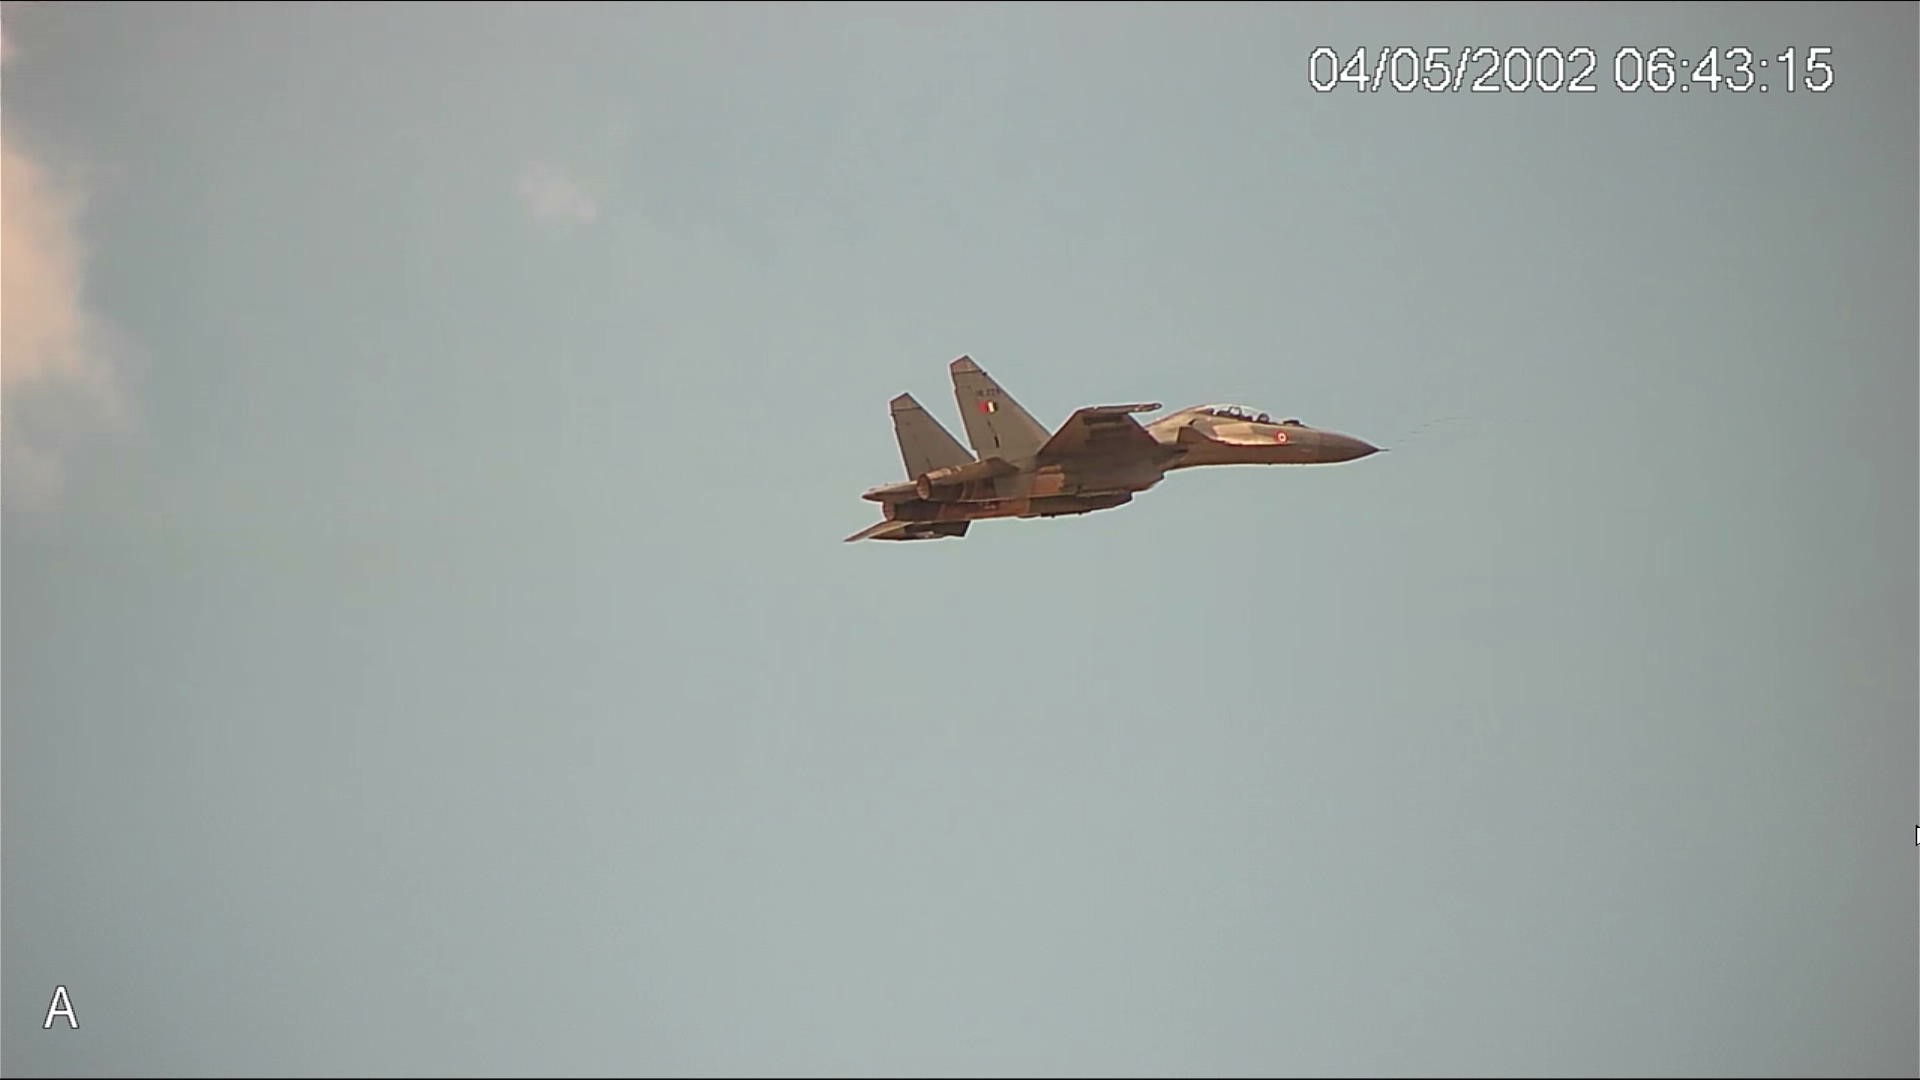SU_30: (840, 351, 1396, 553)
